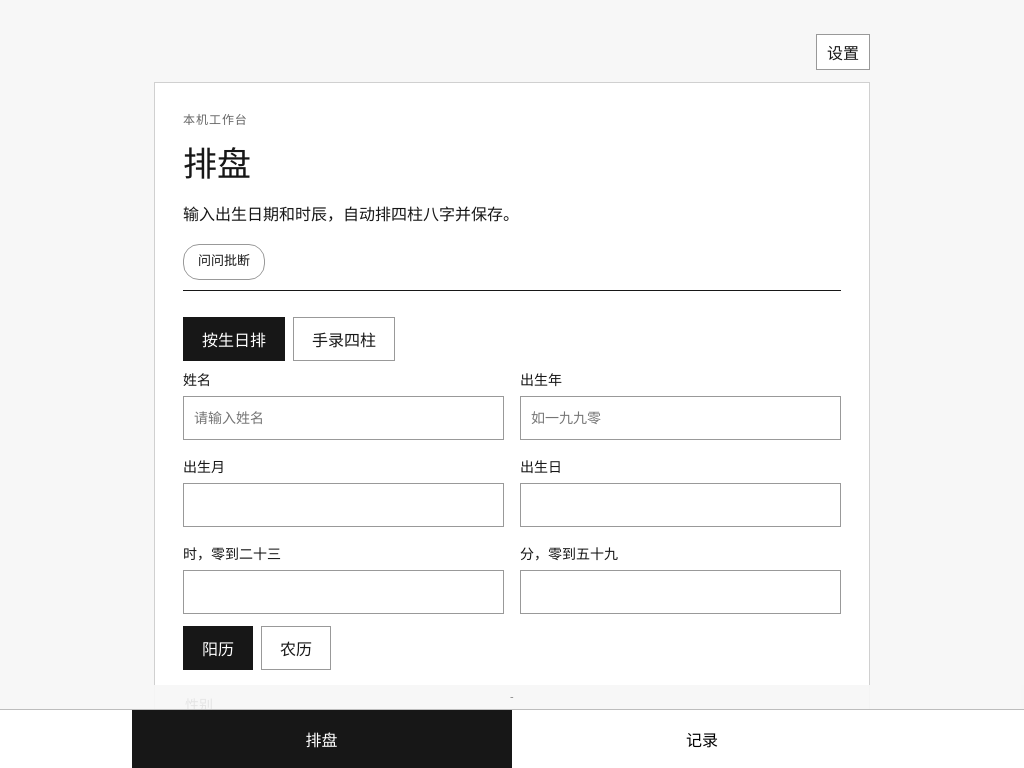
Scenario: 界面正文纯中文(整树穷举) › 排盘弹层(手录四柱)：打开后整棵弹窗扫
The image size is (1024, 768).
Click the button "手录四柱": coordinates (344, 339) [293, 317, 395, 361]
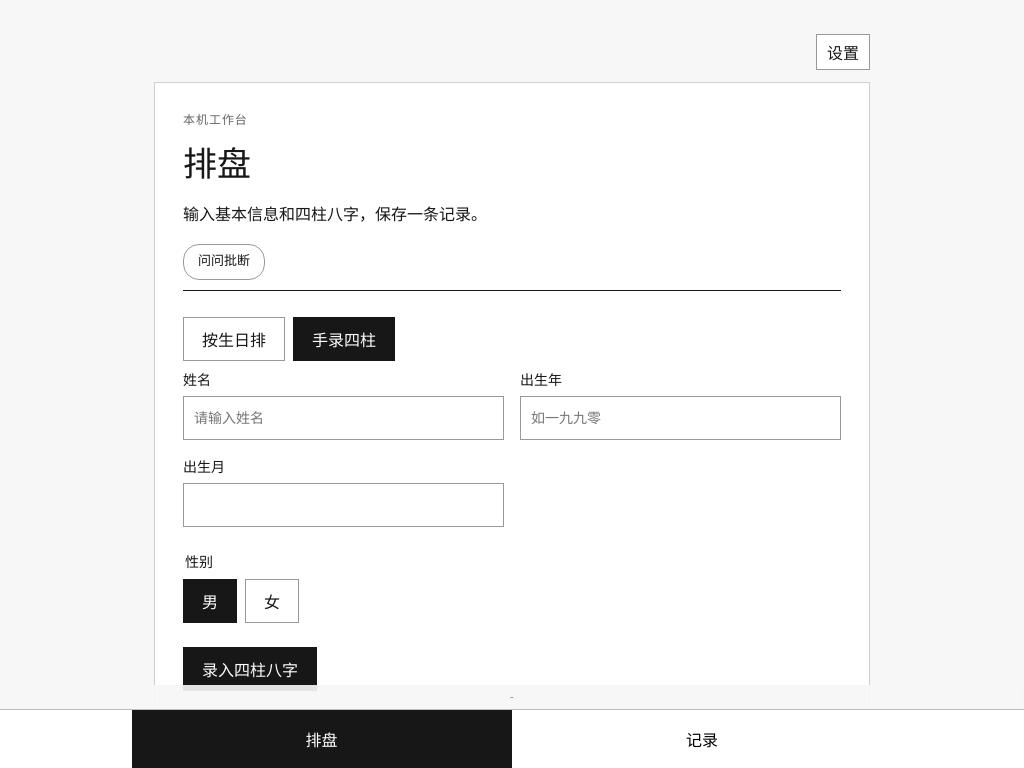
Click the button "录入四柱八字": coordinates (250, 669) [183, 647, 317, 691]
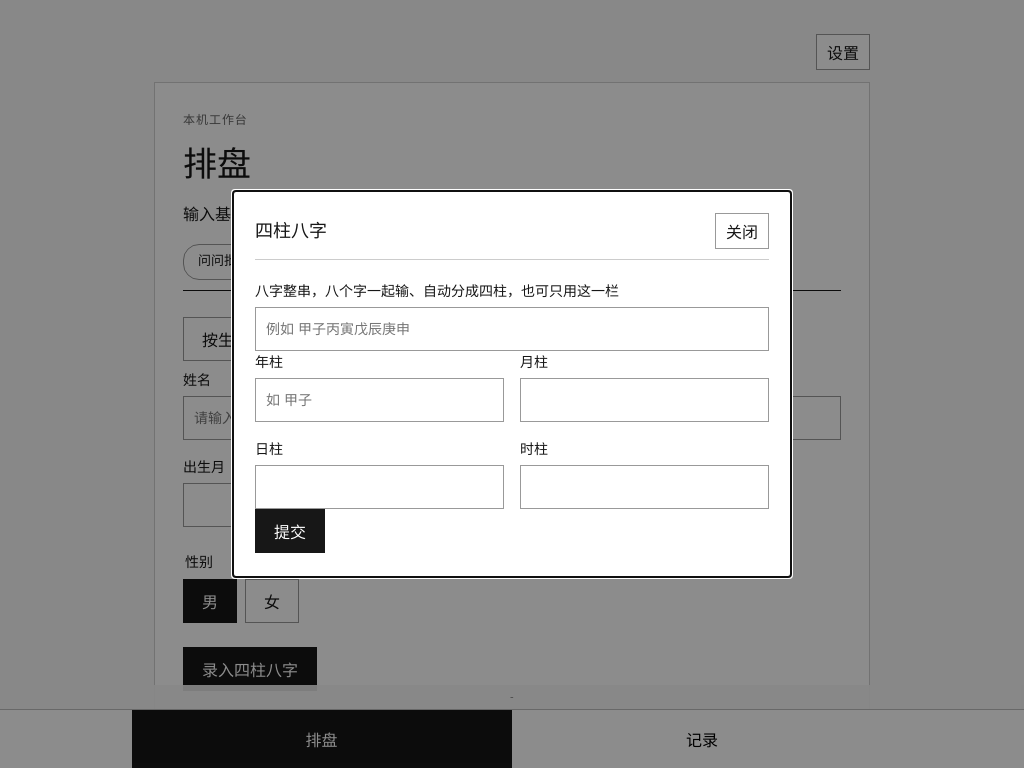
Now the dialog with class "modal" is shown, box [232, 190, 792, 578]
